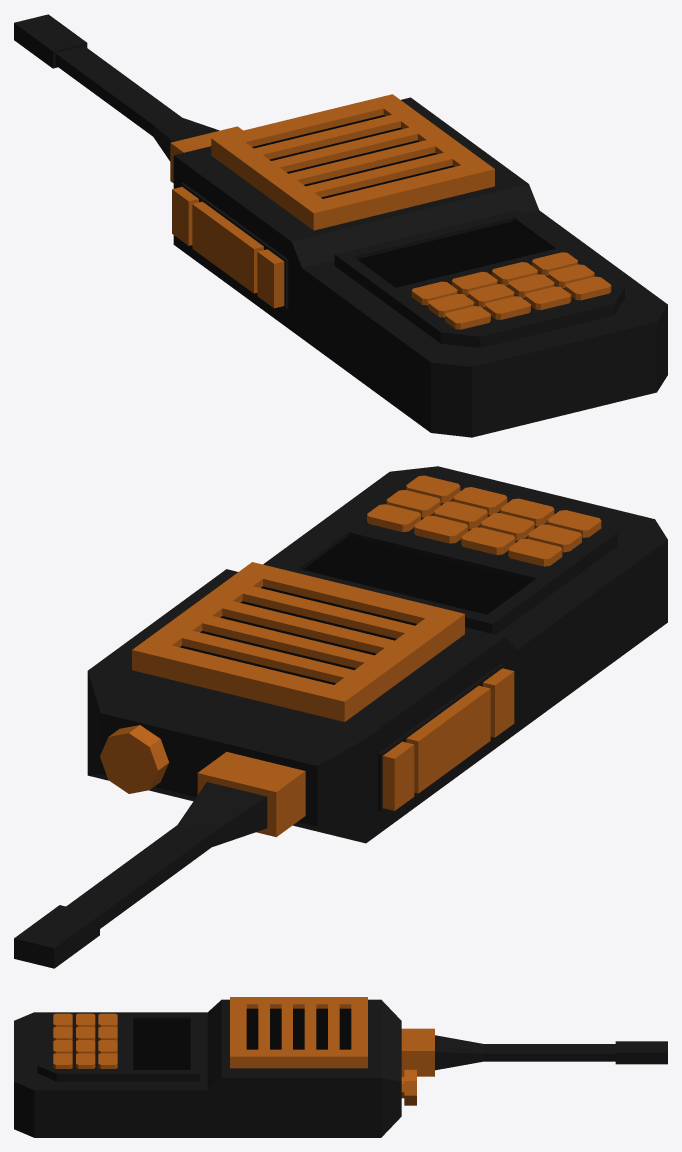
File: Radio.fbx
3 renders of one model, top to bottom at view 1: azimuth 30°, elevation 25°; view 2: azimuth 150°, elevation 25°; view 3: azimuth 270°, elevation 25°, orthographic. The views are drawn at different scales.
Parts seen in each view (by area): view 1: Handheld Radio; view 2: Handheld Radio; view 3: Handheld Radio.
Boxes of the visible parts, box(x1,y1,x2,y2) form: Handheld Radio: box(14, 14, 667, 437); Handheld Radio: box(14, 466, 667, 968); Handheld Radio: box(14, 997, 667, 1137).
Bounding box in the file's own units: 0.06 × 0.2015 × 0.0245.
